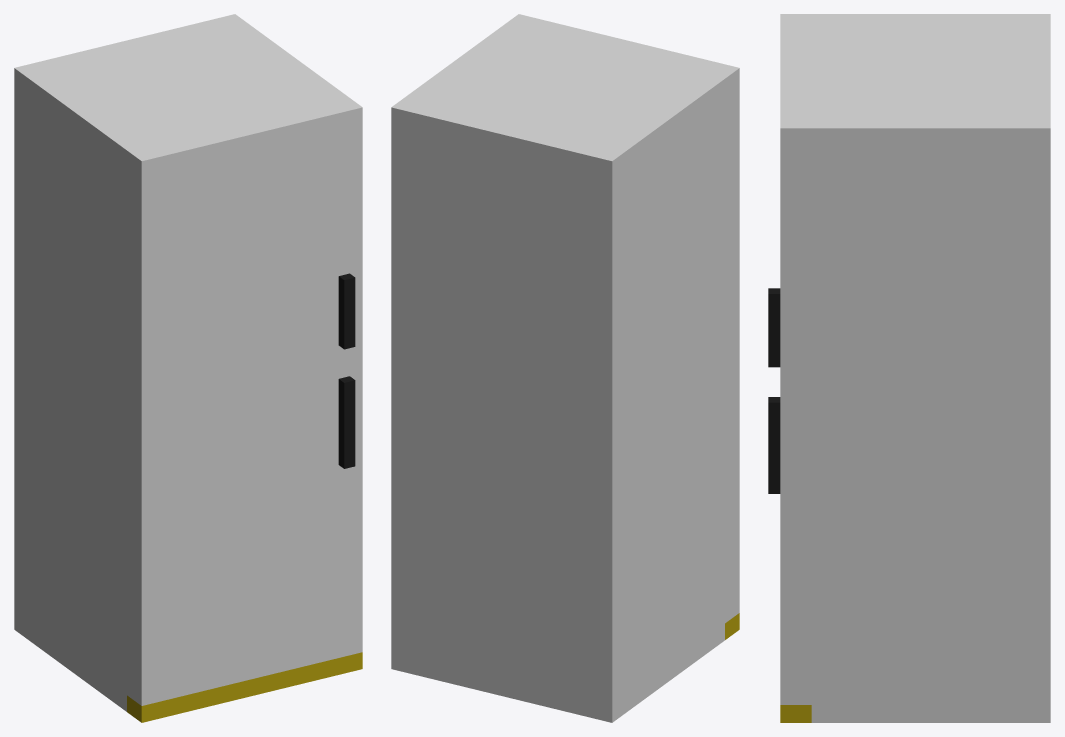
Rendered from Fridge.fbx.
3 views of the same model, side by side, from view 1: azimuth 30°, elevation 25°; view 2: azimuth 150°, elevation 25°; view 3: azimuth 270°, elevation 25° (orthographic). The views are drawn at different scales.
Parts seen in each view (by area): view 1: Fridge; view 2: Fridge; view 3: Fridge.
Boxes of the visible parts, left/top/right/bottom form: Fridge: left=14, top=14, right=362, bottom=722; Fridge: left=391, top=14, right=739, bottom=722; Fridge: left=768, top=14, right=1050, bottom=722.
Size of the model in its own units: 0.7 by 1.7 by 0.7307.
